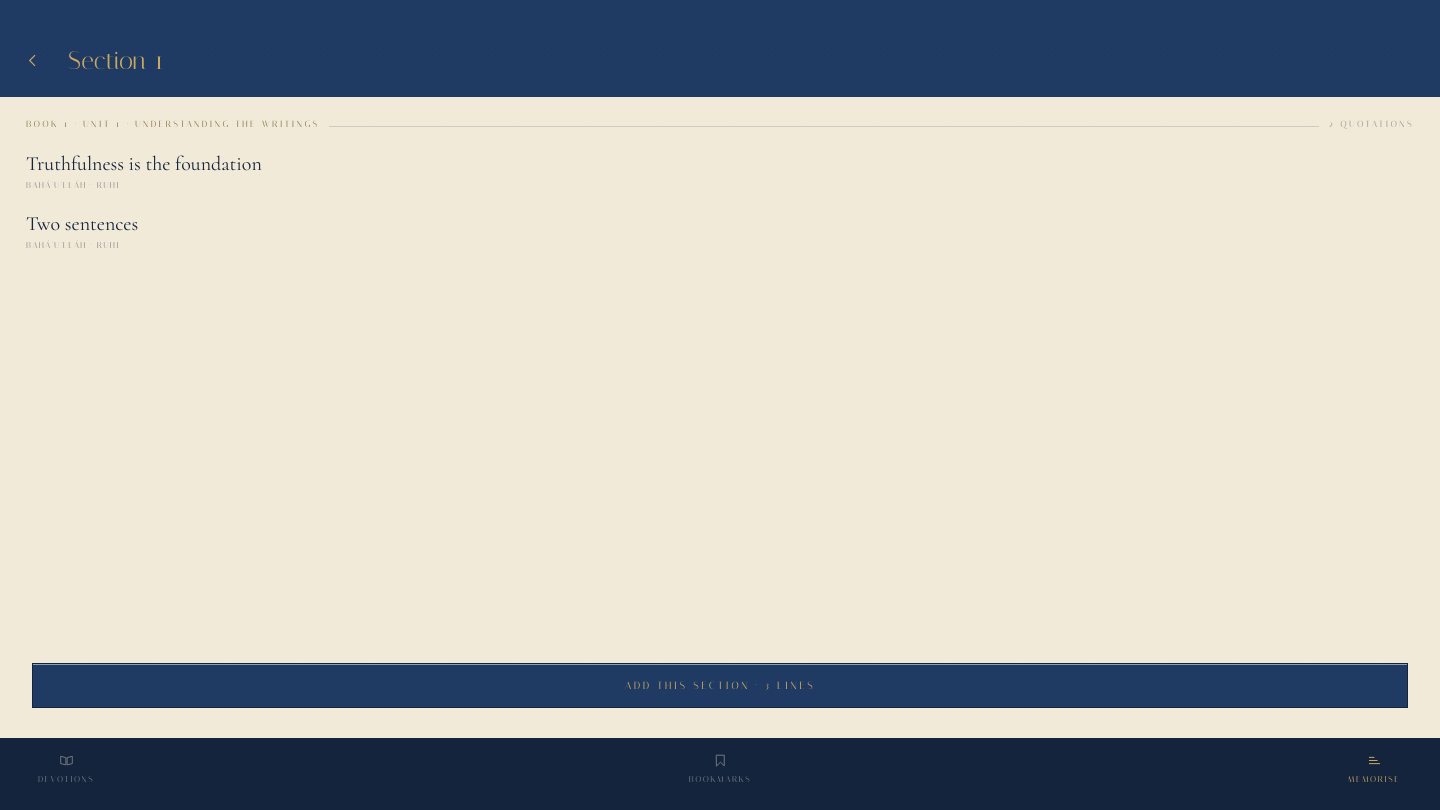
it: what you can do with a quotation once you have found one › opens it whole, with its Ruhi reference, its attribution and the notice
Click the link "Truthfulness is the foundation BAHÁ'U'LLÁH · RUHI" at (144, 171), box [26,152,262,190]
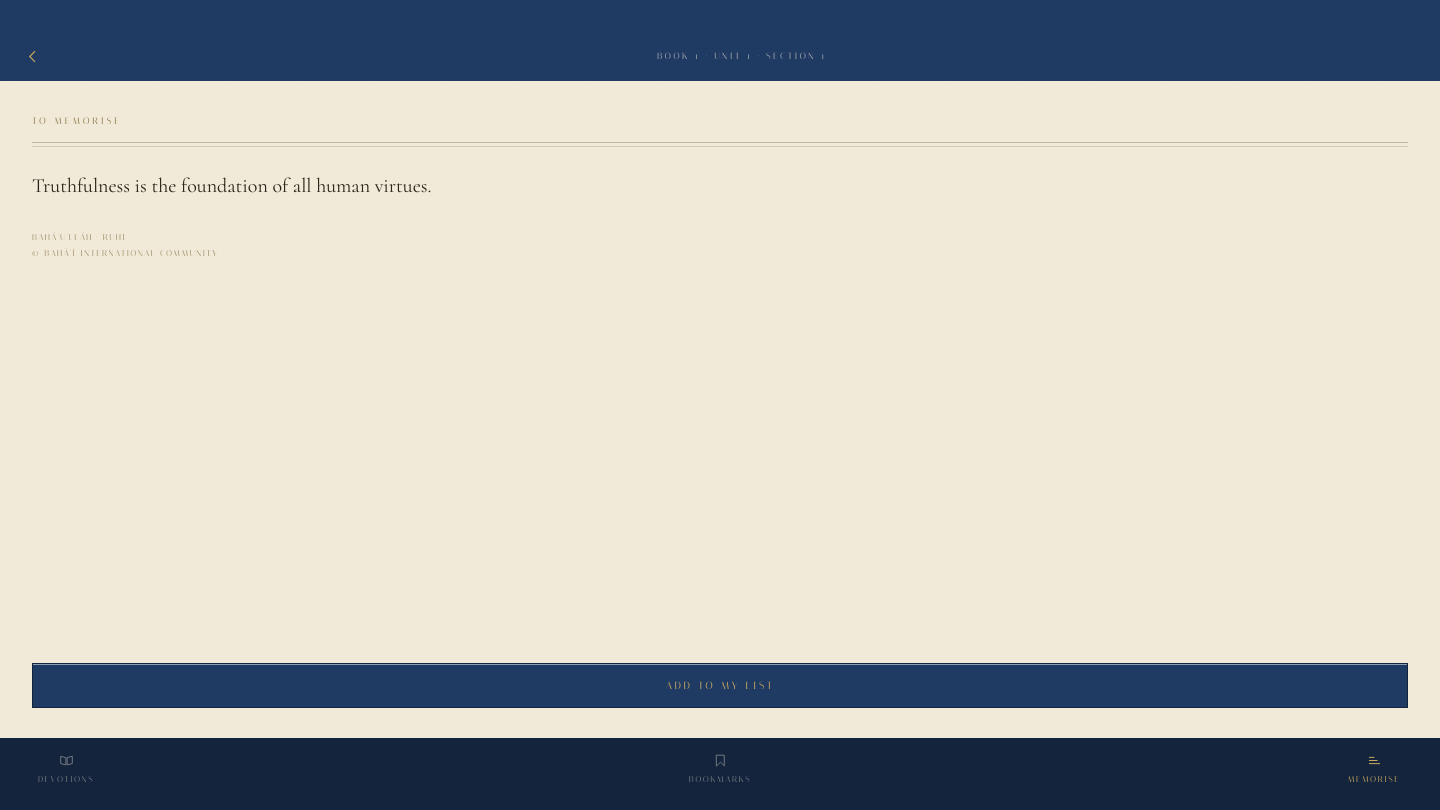
Now the text "Truthfulness is the foundation of all human virtues." is shown, box [32,174,432,198]
Now the text "BAHÁ'U'LLÁH · RUHI© BAHÁ'Í INTERNATIONAL COMMUNITY" is shown, box [32,232,218,258]
